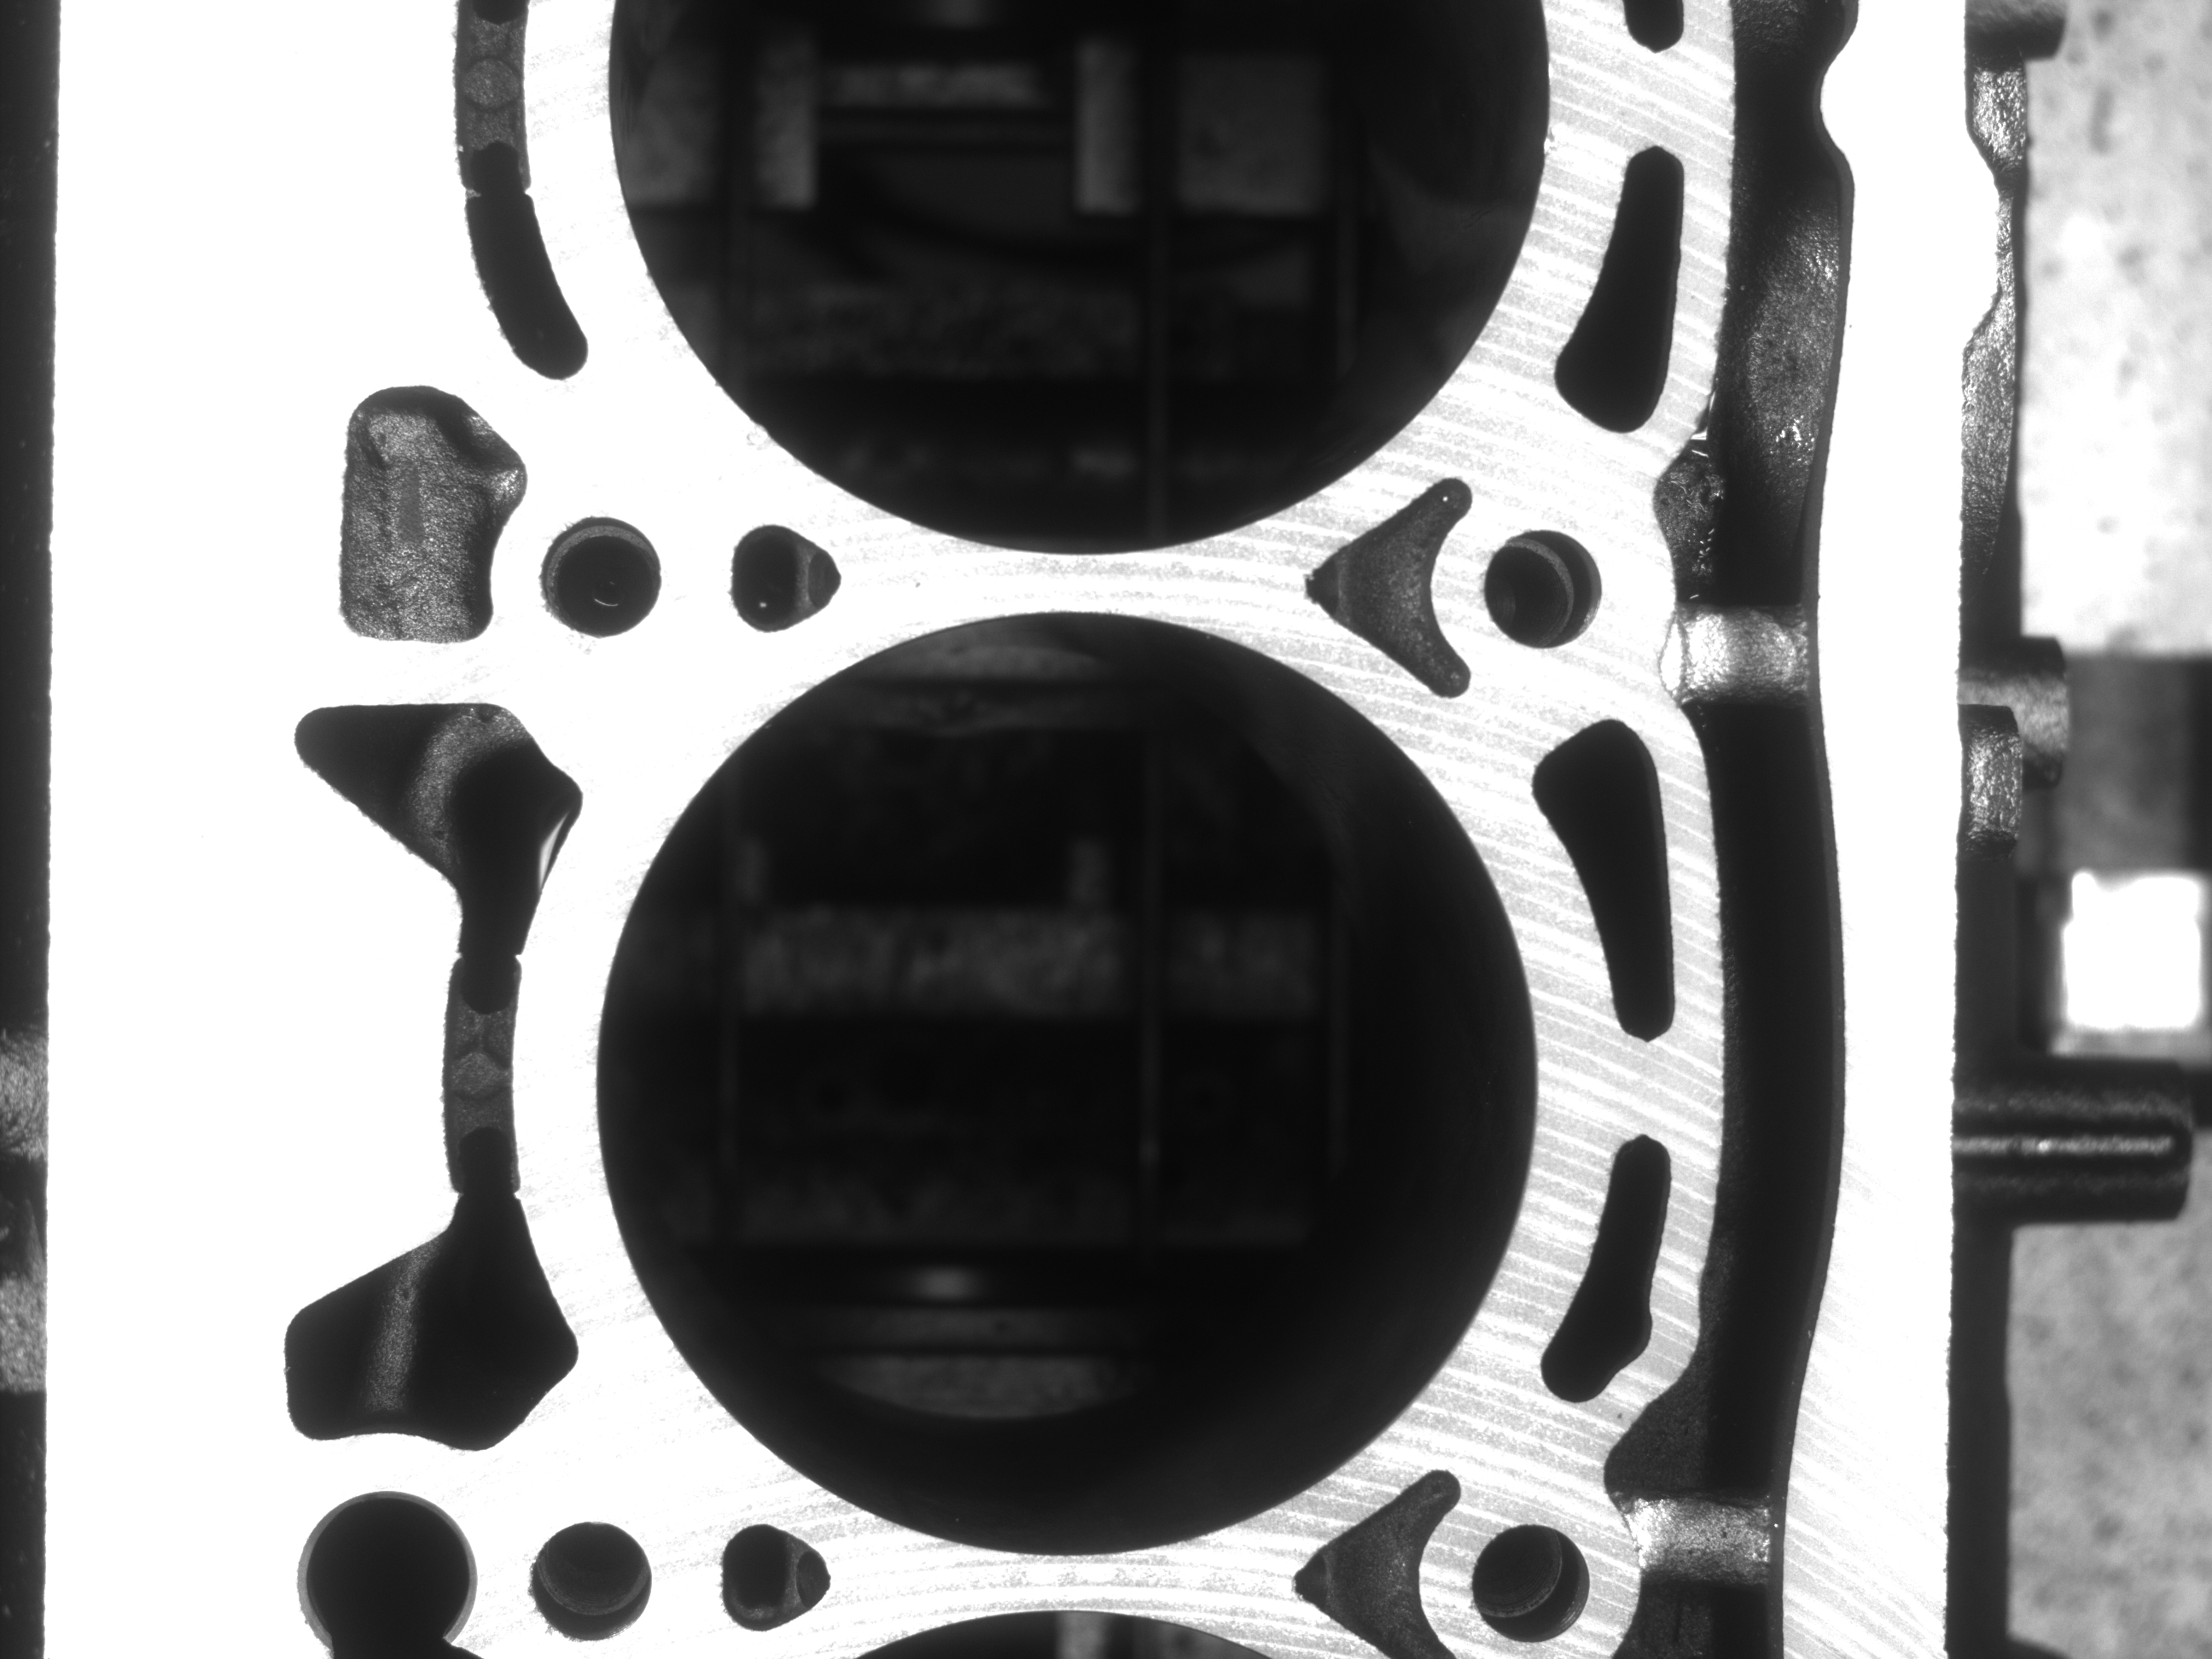shrinkage: (1538, 120, 1569, 164), (563, 636, 603, 664), (742, 427, 766, 450)
